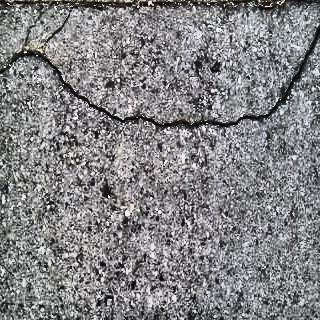crack: (0, 20, 320, 130)
